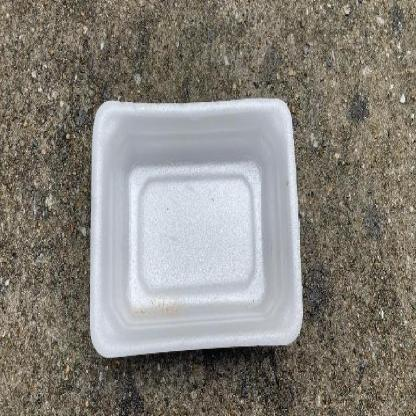Glass Cup: (89, 98, 302, 359), (90, 98, 303, 358)
